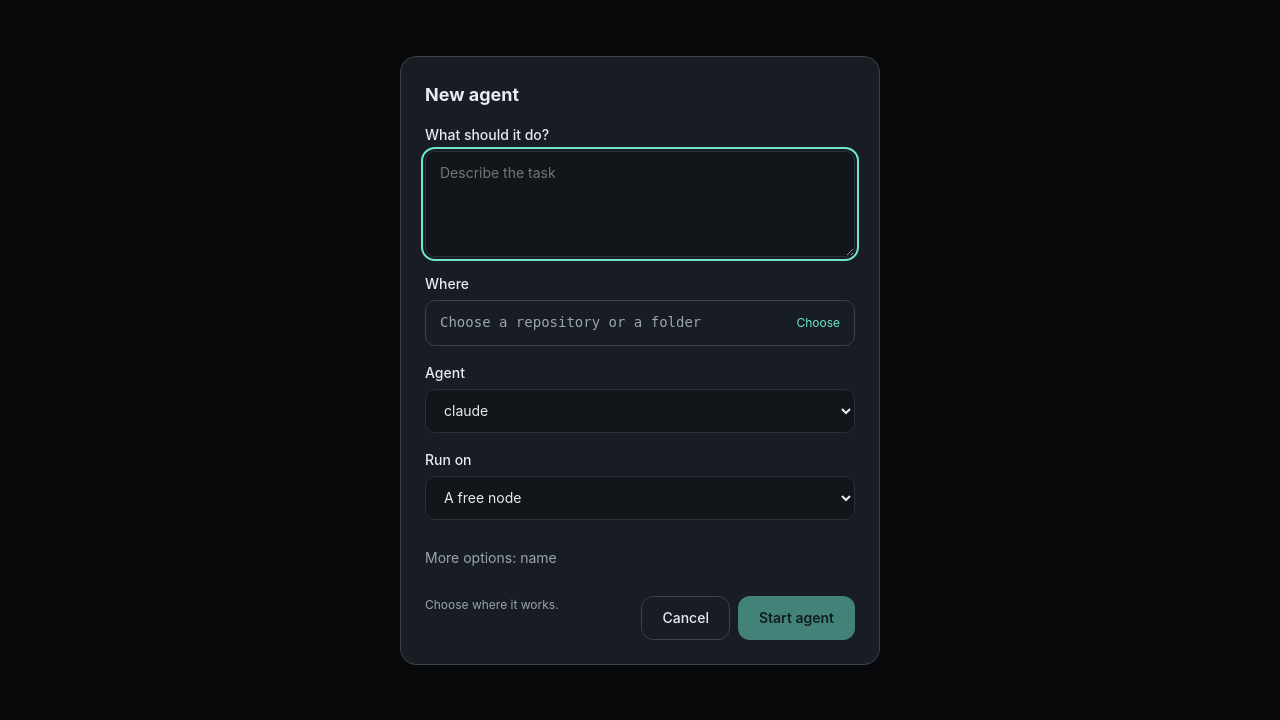
SpawnDialog: repository source › lists repos, debounces search by 300 ms, loads more
This screenshot has width=1280, height=720.
Later steps or results of the test are not shown.
What coordinates should you click on to do the following:
click the button named "Where"
I would click on:
 (640, 322)
Its box is [425,300,855,346].
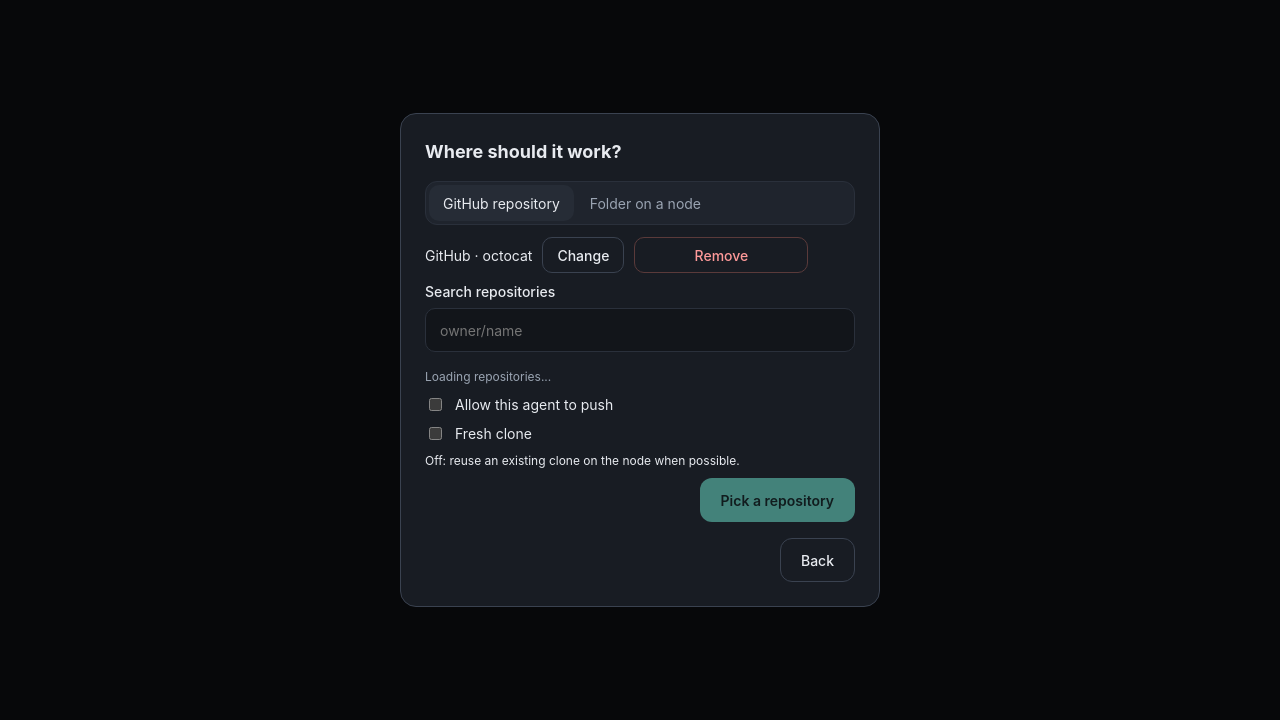
Now the text "Loading repositories..." is shown, box [425,369,551,384]
